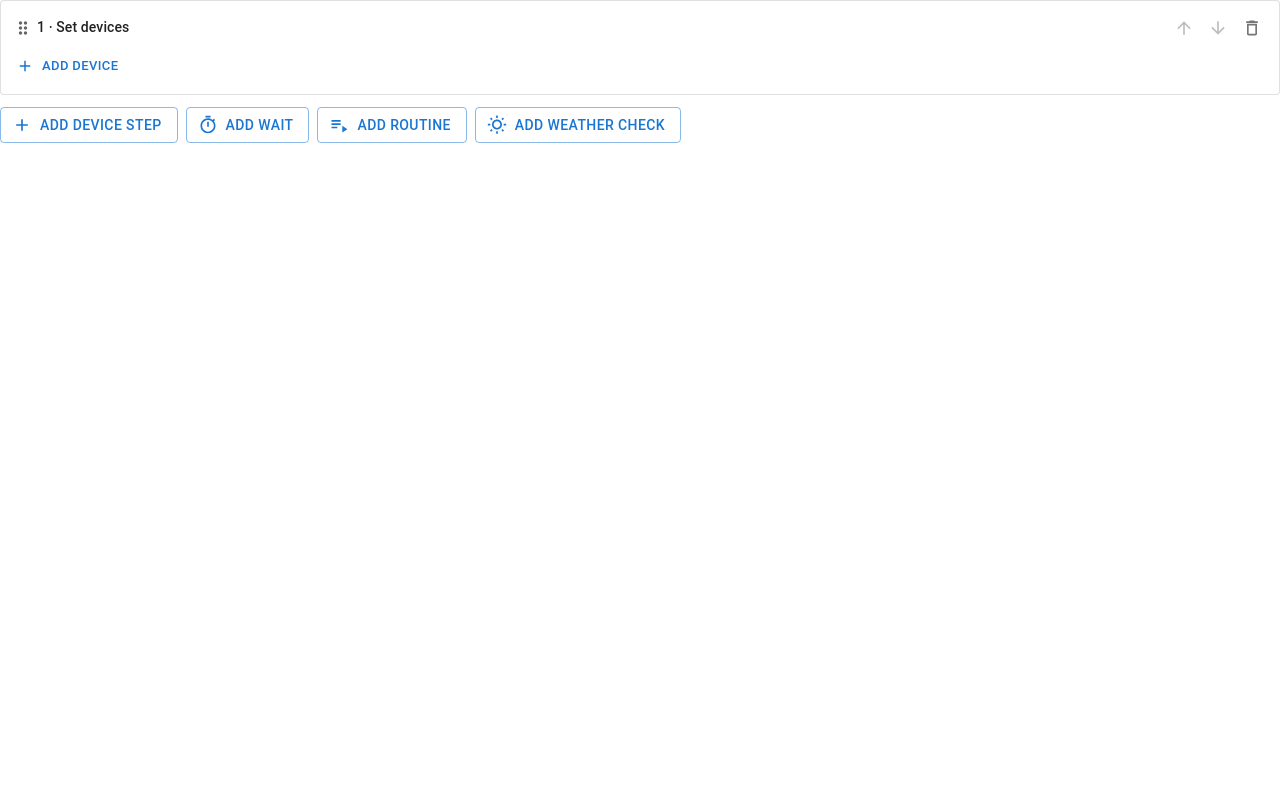
Test: StepList › adds a Run routine step from the picker
This screenshot has width=1280, height=800.
Click the button "Add routine" at {"x": 392, "y": 125}, box [318, 107, 467, 143]
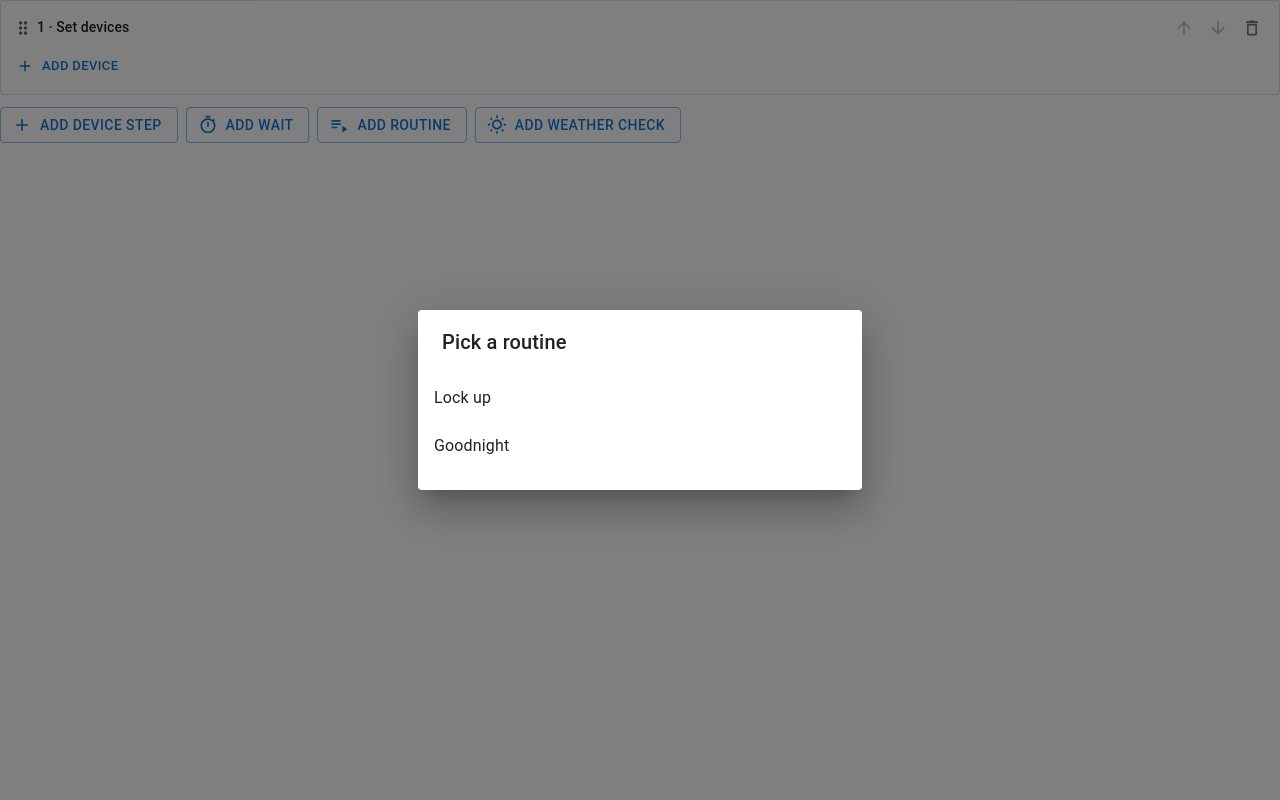
Expected: the button "Goodnight" is shown, [434, 436, 509, 455]
Click the button "Lock up" at {"x": 463, "y": 398}, box [434, 388, 491, 407]
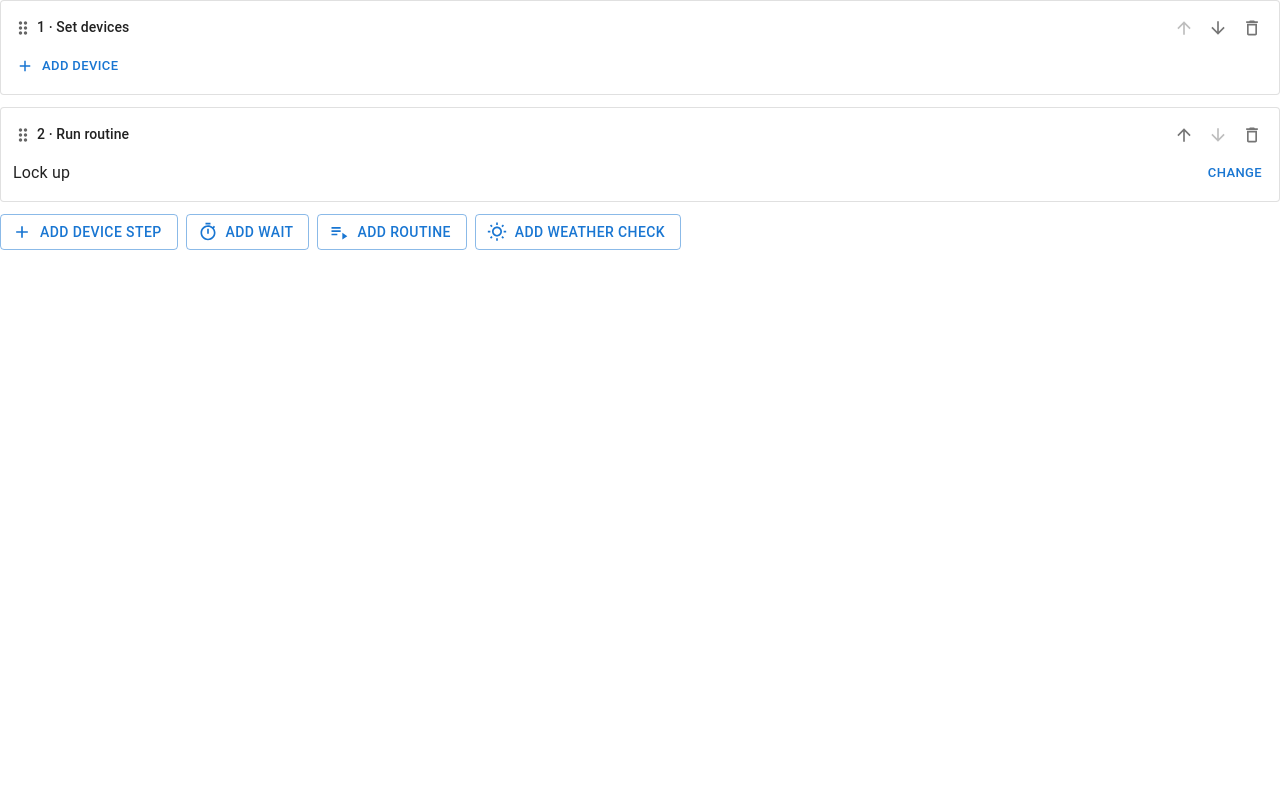
Expected: the element named "Step 2: Run routine" shows "Lock up", [13, 163, 70, 182]
